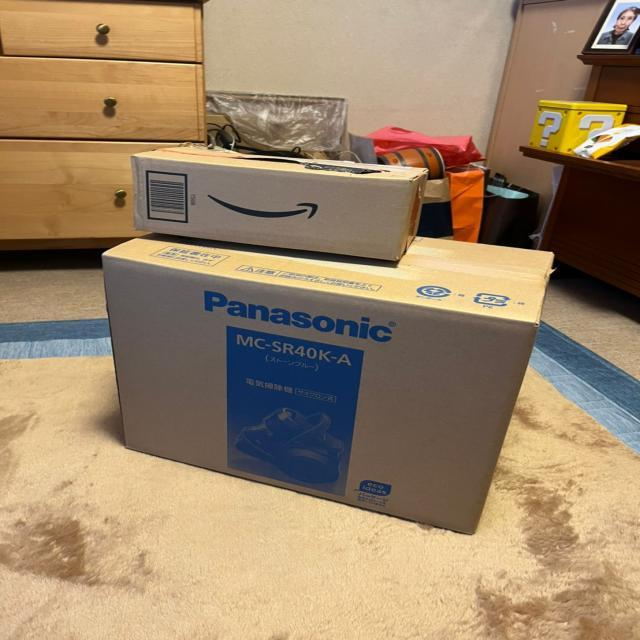-: (97, 200, 567, 540), (121, 134, 435, 272)
